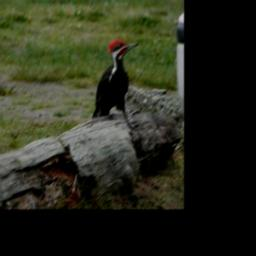Woodpecker: (92, 34, 140, 123)
